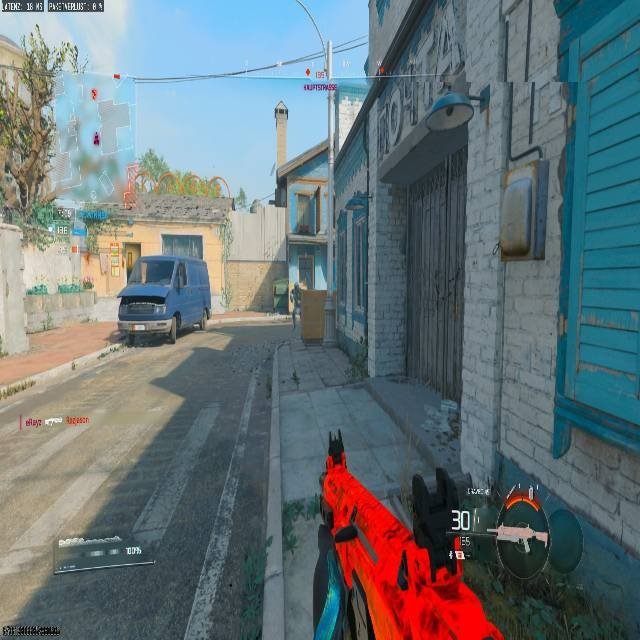player: (289, 281, 304, 323)
